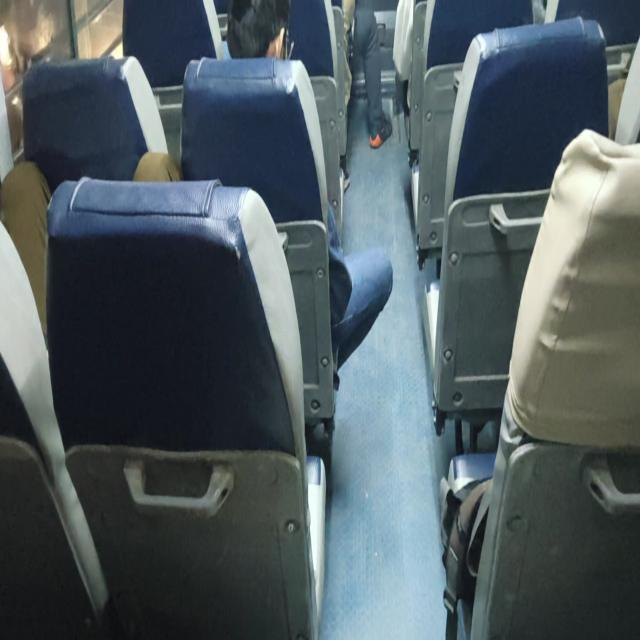person: (133, 0, 393, 376), (225, 0, 343, 248), (342, 0, 393, 148), (225, 0, 291, 60)
